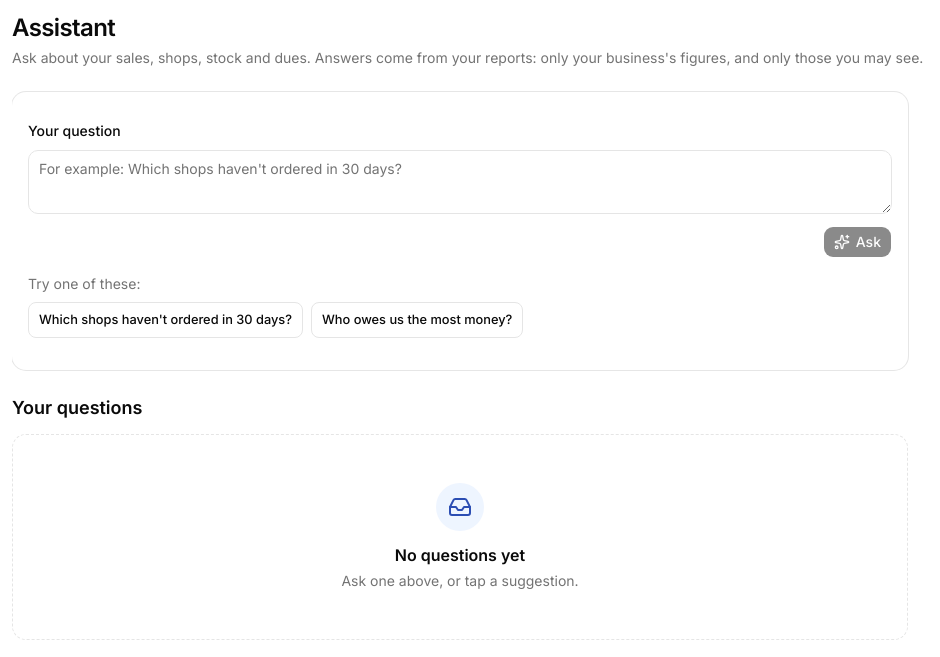
Assistant › asks a suggested question and waits for the answer
Check: the heading "No questions yet" is shown, box [395,545,525,565]
Step 1. Click the button "Who owes us the most money?" → {"x": 417, "y": 320}, box [311,302,523,338]
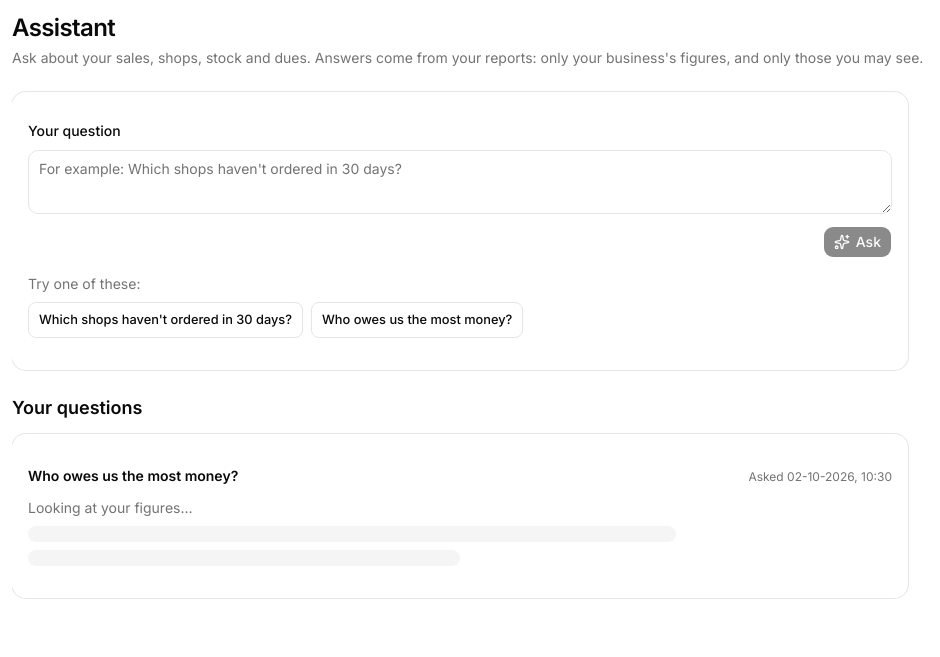
Check: the text "Looking at your figures…" is shown, box [28,499,193,516]
